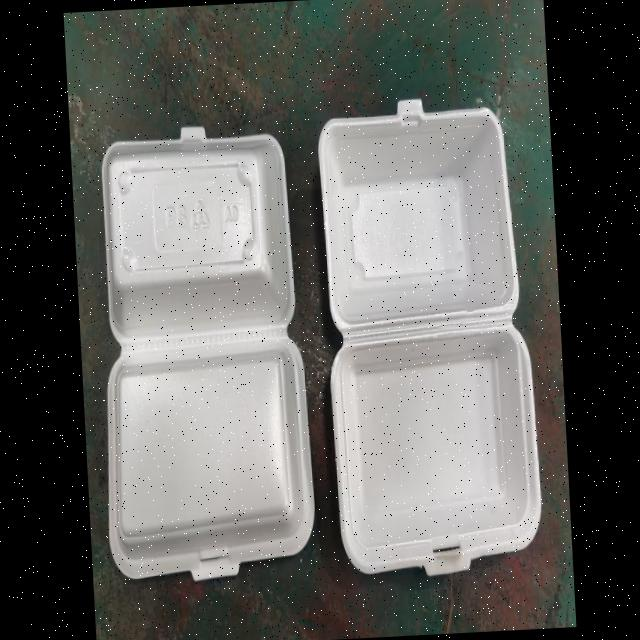styrofoam: (314, 91, 546, 582), (86, 119, 318, 586)
